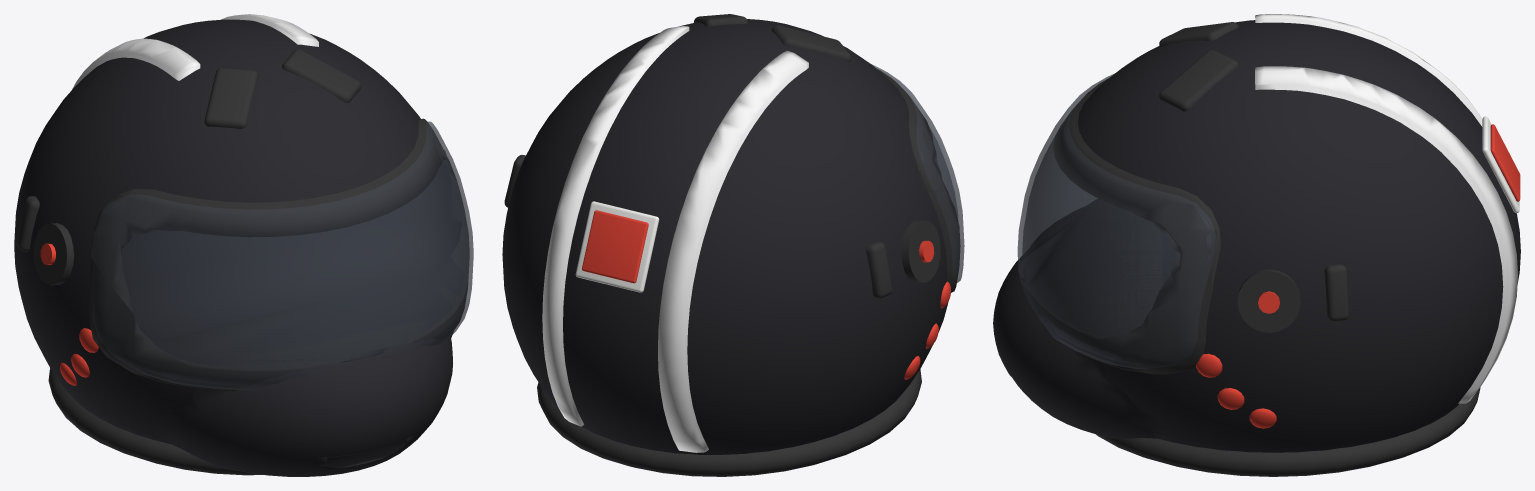
File: motorcycle_helmet.glb
The picture shows the model from 3 angles, left to right: view 1: azimuth 30°, elevation 25°; view 2: azimuth 150°, elevation 25°; view 3: azimuth 270°, elevation 25°; orthographic projection. The views are drawn at different scales.
Parts seen in each view (by area): view 1: Helmet_Shell, Helmet_Visor, Helmet_EyeportTrim, Helmet_NeckRoll, Helmet_TopVent.001, Helmet_Stripe.001, Helmet_TopVent, Helmet_VisorPivot.001, Helmet_Stripe, Helmet_SideVent.001; view 2: Helmet_Shell, Helmet_Stripe.001, Helmet_Stripe, Helmet_NeckRoll, Helmet_Visor, Helmet_EyeportTrim, Helmet_PatchInner, Helmet_Patch, Helmet_VisorPivot.001, Helmet_TopVent.001, Helmet_SideVent.001, Helmet_TopVent; view 3: Helmet_Shell, Helmet_Visor, Helmet_EyeportTrim, Helmet_Stripe, Helmet_NeckRoll, Helmet_VisorPivot, Helmet_TopVent, Helmet_Stripe.001, Helmet_SideVent, Helmet_PatchInner, Helmet_TopVent.001, Helmet_Patch.
Boxes of the visible parts, x1,y1,x2,y2 form: Helmet_Shell: (14, 19, 464, 476); Helmet_Visor: (92, 121, 473, 390); Helmet_EyeportTrim: (89, 118, 469, 391); Helmet_NeckRoll: (48, 368, 262, 475); Helmet_TopVent.001: (204, 67, 258, 128); Helmet_Stripe.001: (72, 38, 200, 89); Helmet_TopVent: (282, 49, 361, 102); Helmet_VisorPivot.001: (33, 223, 74, 285); Helmet_Stripe: (220, 14, 318, 46); Helmet_SideVent.001: (16, 196, 39, 251); Helmet_Shell: (502, 19, 948, 454); Helmet_Stripe.001: (658, 50, 808, 452); Helmet_Stripe: (542, 26, 689, 426); Helmet_NeckRoll: (537, 369, 921, 476); Helmet_Visor: (870, 63, 964, 283); Helmet_EyeportTrim: (877, 69, 960, 292); Helmet_PatchInner: (582, 210, 648, 283); Helmet_Patch: (575, 201, 659, 292); Helmet_VisorPivot.001: (901, 220, 940, 282); Helmet_TopVent.001: (771, 25, 851, 61); Helmet_SideVent.001: (866, 241, 892, 298); Helmet_TopVent: (694, 14, 747, 26); Helmet_Shell: (993, 20, 1520, 452); Helmet_Visor: (1017, 73, 1215, 368); Helmet_EyeportTrim: (1023, 78, 1220, 374); Helmet_Stripe: (1255, 66, 1517, 403); Helmet_NeckRoll: (1096, 387, 1480, 476); Helmet_VisorPivot: (1237, 269, 1300, 332); Helmet_TopVent: (1159, 50, 1238, 111); Helmet_Stripe.001: (1255, 14, 1517, 214); Helmet_SideVent: (1324, 264, 1349, 321); Helmet_PatchInner: (1490, 124, 1520, 201); Helmet_TopVent.001: (1159, 22, 1238, 46); Helmet_Patch: (1482, 116, 1519, 213).
Bounding box in the file's own units: 0.2943 × 0.2526 × 0.3334.
